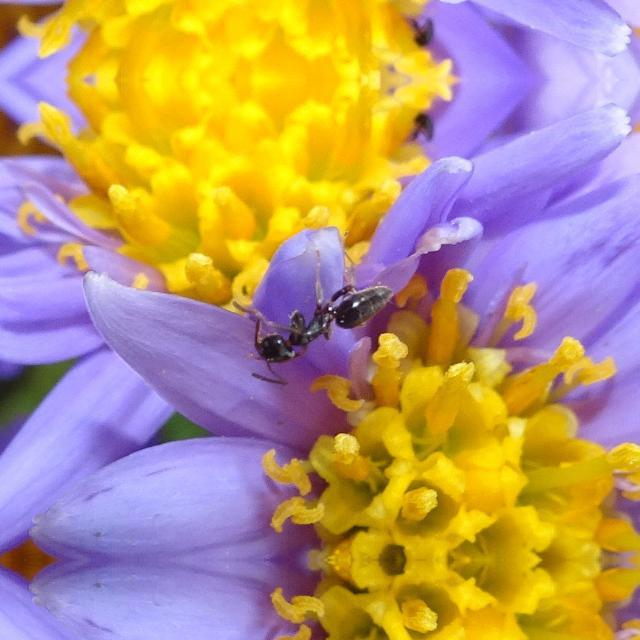Tapinoma: (254, 266, 408, 384)
